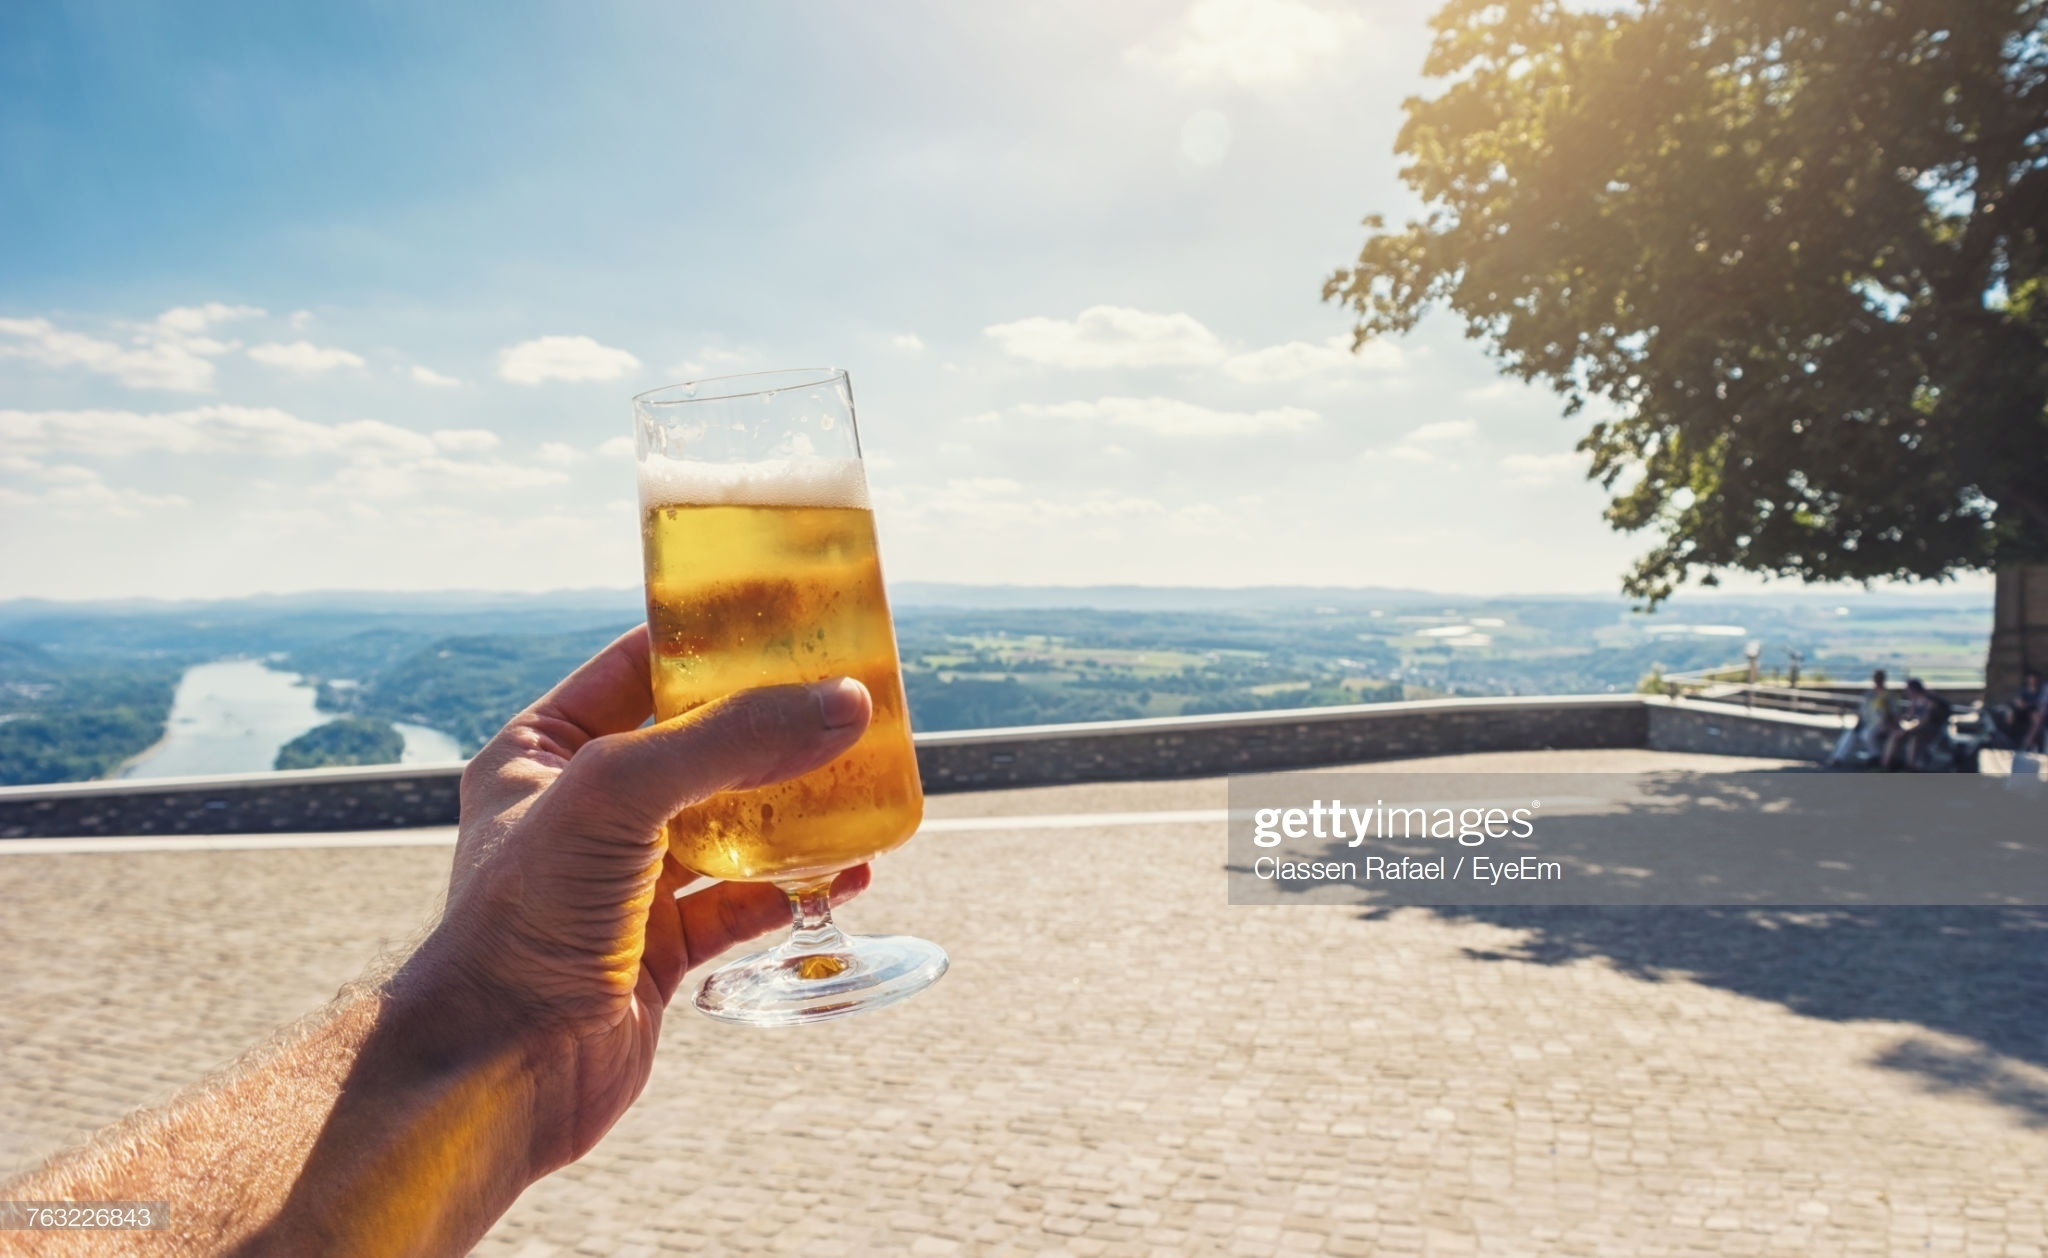whiskey: (617, 361, 913, 1020)
